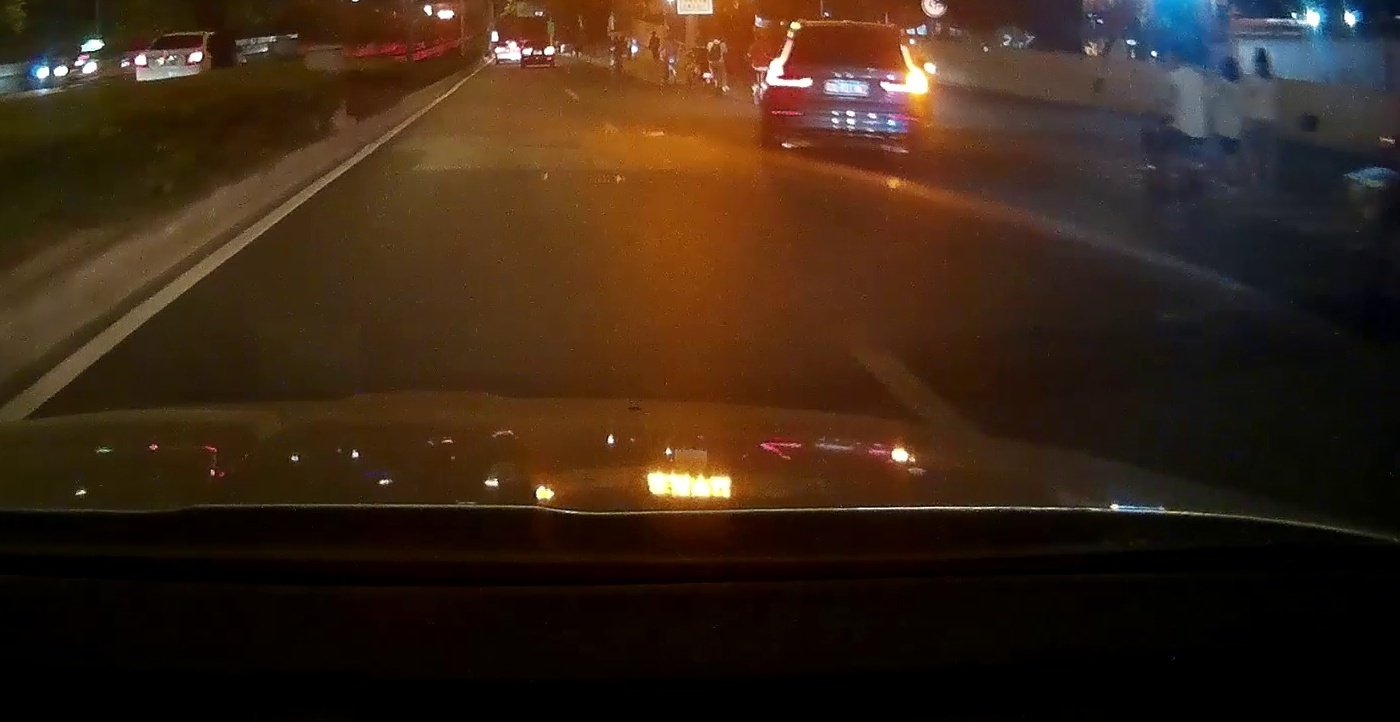L_light: (764, 40, 812, 88), (135, 54, 149, 68)
R_light: (879, 43, 927, 93), (185, 50, 204, 65)
T_light: (837, 27, 862, 33), (174, 34, 186, 37)
night-no: (135, 30, 207, 92)
night-right: (762, 19, 934, 159)
